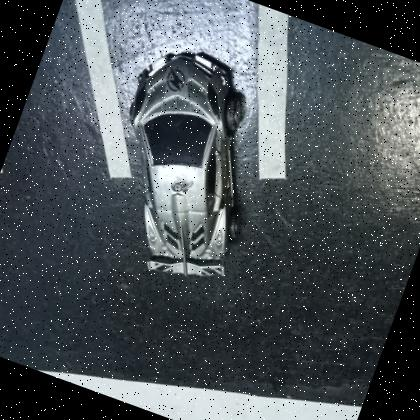Car: (131, 52, 245, 276)
